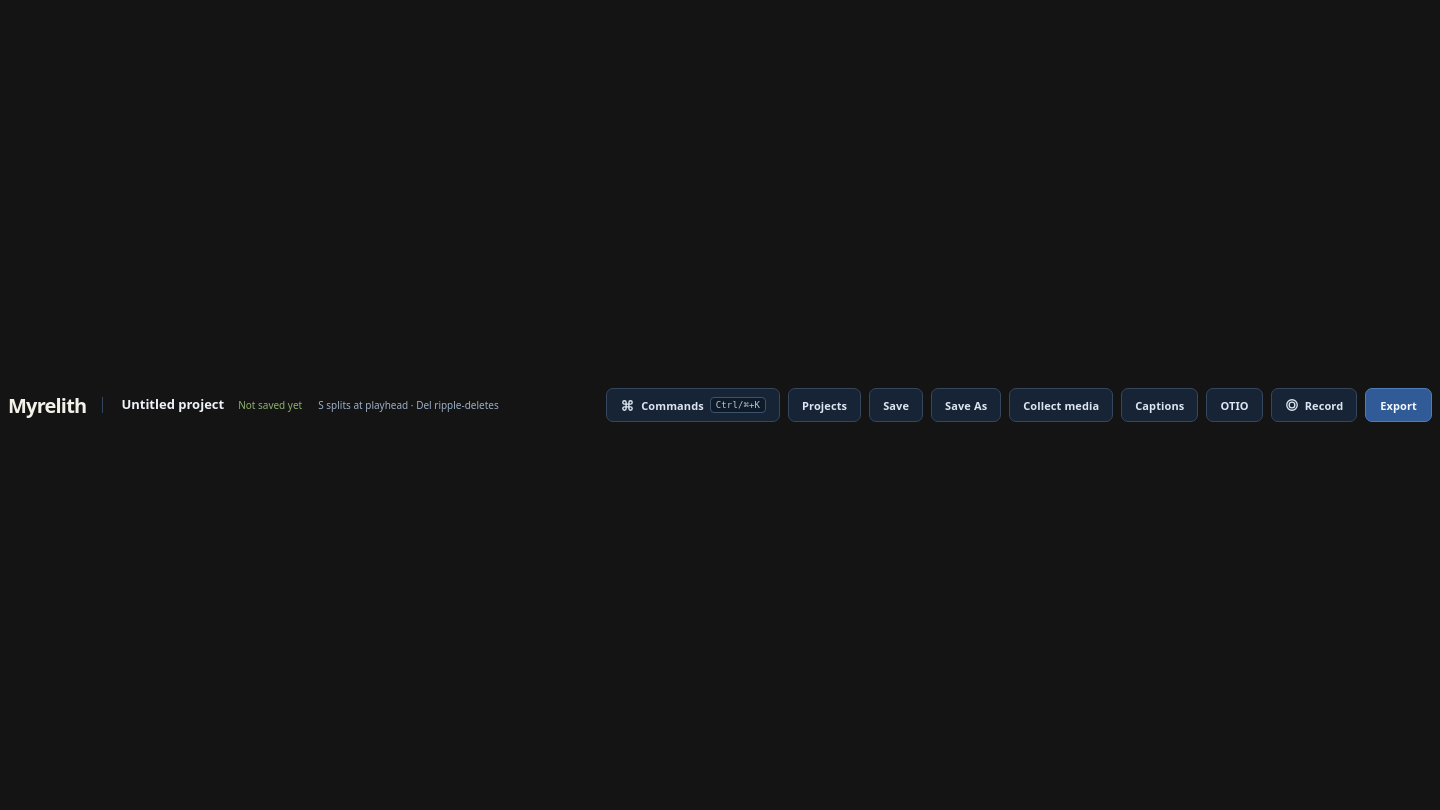
Scenario: Export dialog configuration › keeps a stored file destination selected when this browser cannot write it
The width and height of the screenshot is (1440, 810).
Click the button "Export": (1399, 405) [1365,388,1432,422]
(page scrolled)
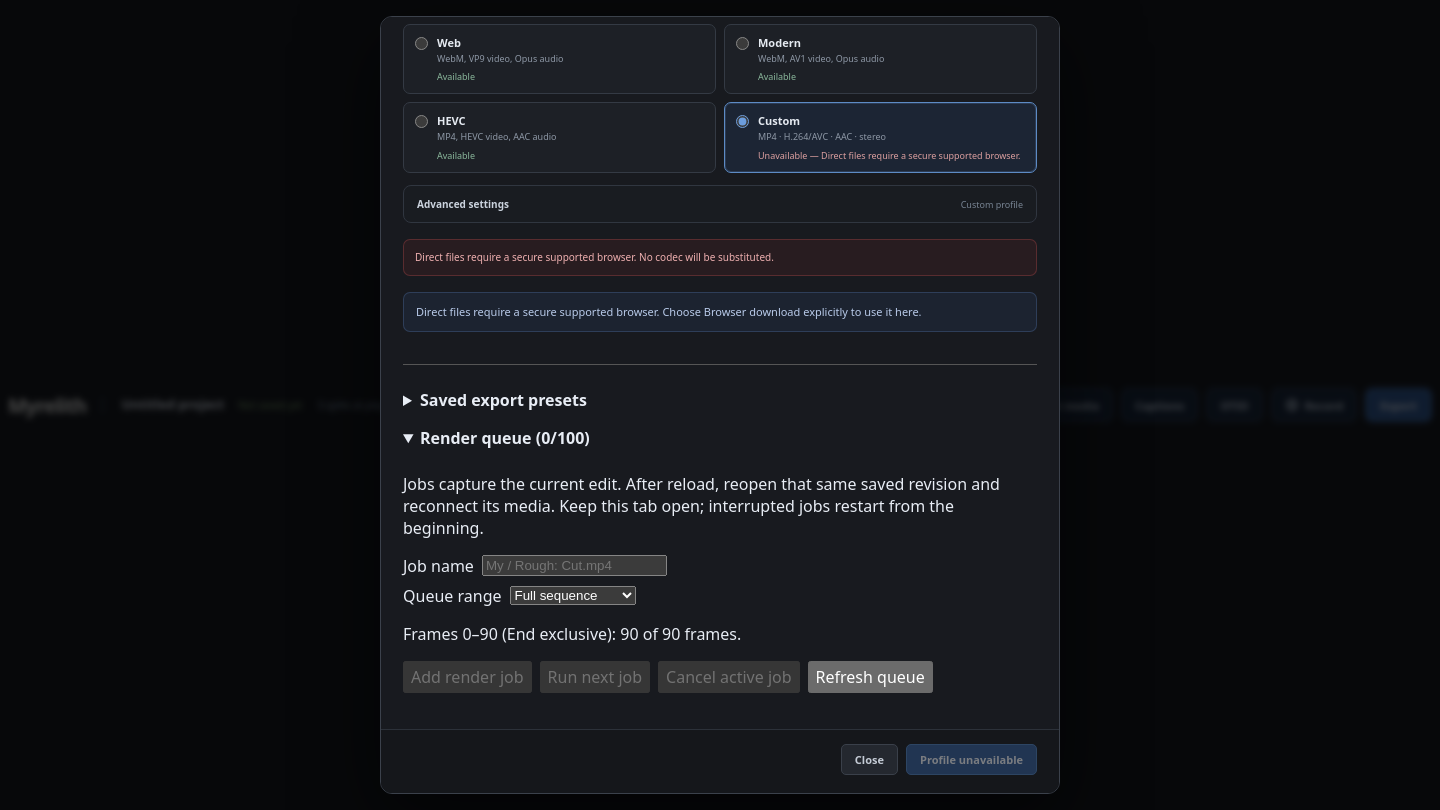
Expected: the button "Profile unavailable" is disabled, [906,744,1037,775]
